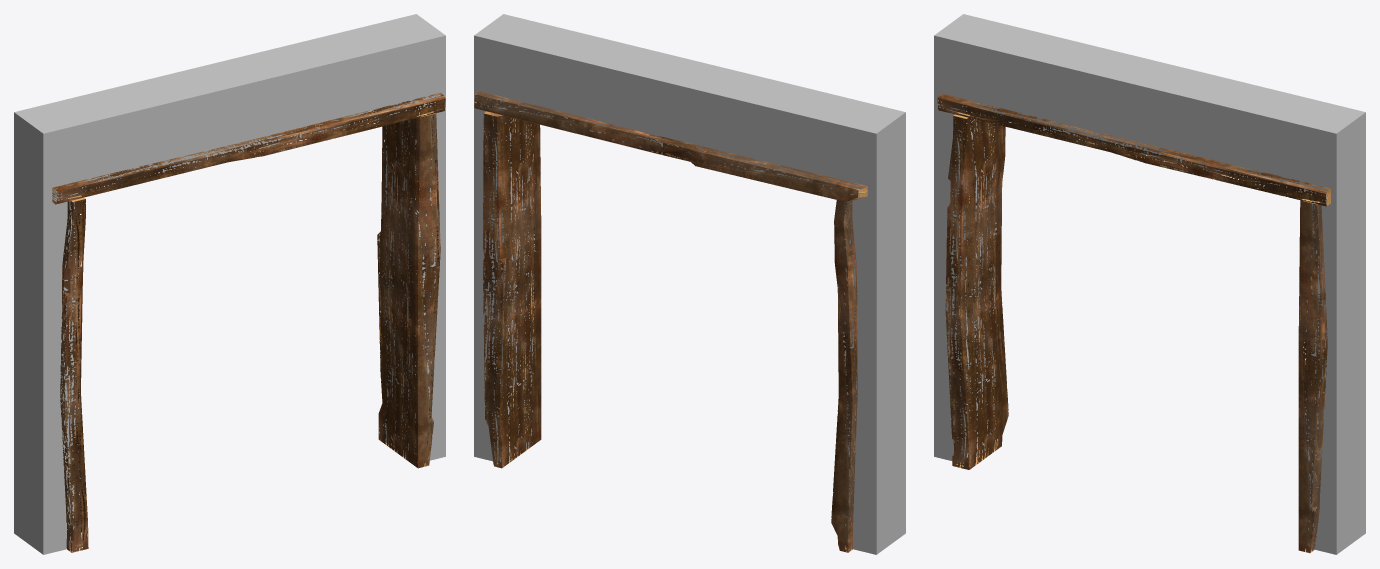
3 renders of one model, left to right at view 1: azimuth 30°, elevation 25°; view 2: azimuth 150°, elevation 25°; view 3: azimuth 330°, elevation 25°, orthographic.
Parts seen in each view (by area): view 1: SM_BB_T4_Wall_Doorframe_Double_02_LOD0; view 2: SM_BB_T4_Wall_Doorframe_Double_02_LOD0; view 3: SM_BB_T4_Wall_Doorframe_Double_02_LOD0.
Part boxes in pixels (x1,y1,x2,y2): SM_BB_T4_Wall_Doorframe_Double_02_LOD0: (14, 14, 445, 554); SM_BB_T4_Wall_Doorframe_Double_02_LOD0: (474, 14, 905, 554); SM_BB_T4_Wall_Doorframe_Double_02_LOD0: (934, 14, 1365, 554).
Bounding box in the file's own units: 3 × 3 × 0.5174.
